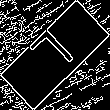L_SE: (27, 26, 83, 84)
